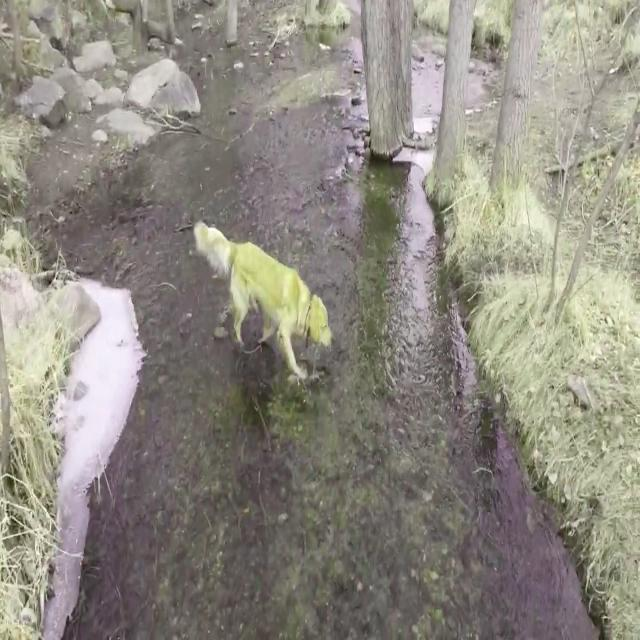Dog: (193, 219, 334, 380)
